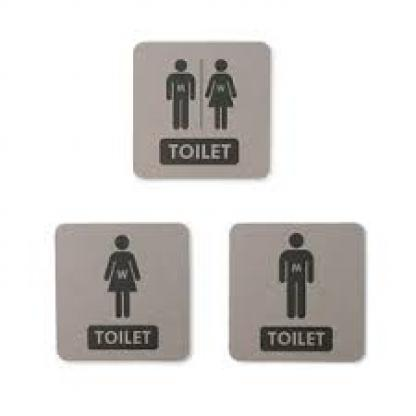toilet: (162, 53, 238, 133), (272, 232, 316, 320), (101, 235, 145, 319)
